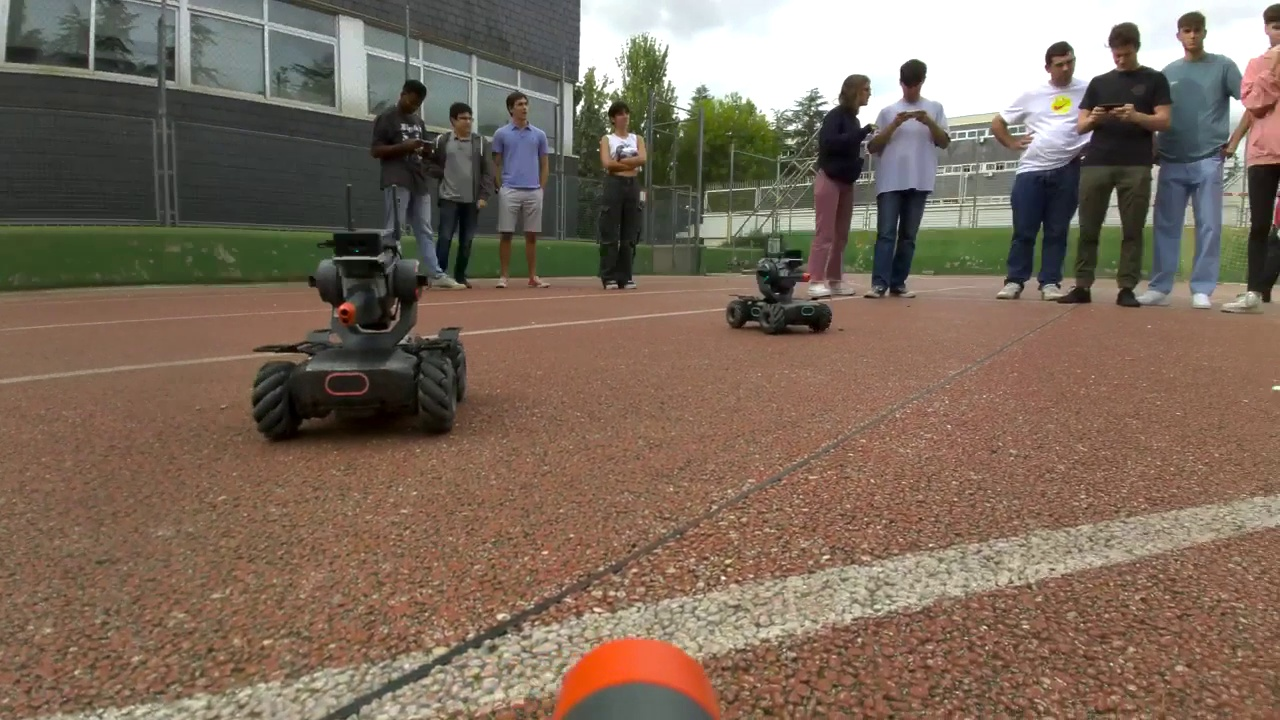robot: (251, 234, 465, 439), (727, 252, 831, 337)
